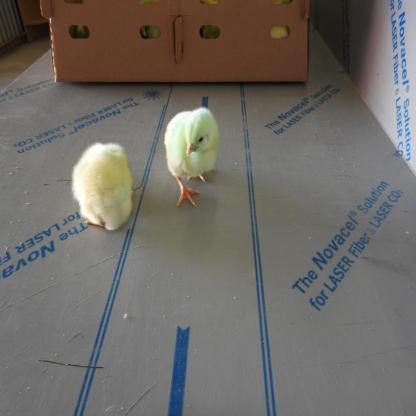Chicken: (67, 129, 136, 241), (160, 106, 226, 210)
